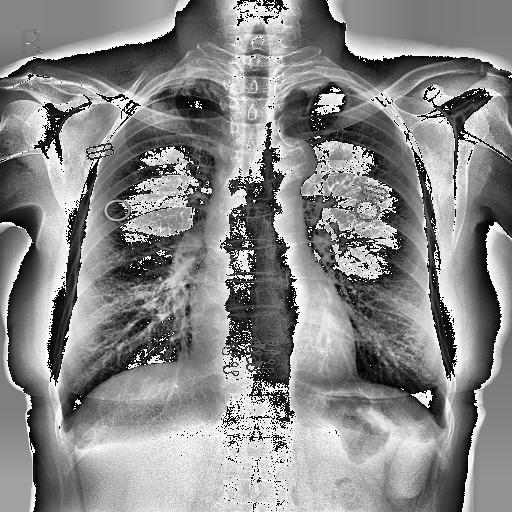0- Aortic enlargement: (258, 134, 321, 183), (264, 134, 316, 193), (270, 138, 318, 178)
11- Pleural thickening: (281, 70, 337, 99), (154, 76, 224, 98), (298, 78, 364, 92), (146, 78, 220, 89), (283, 79, 354, 89), (160, 76, 204, 85)
13- Pulmonary fibrosis: (298, 82, 328, 112), (172, 88, 217, 104), (181, 84, 197, 108), (306, 95, 316, 117)
